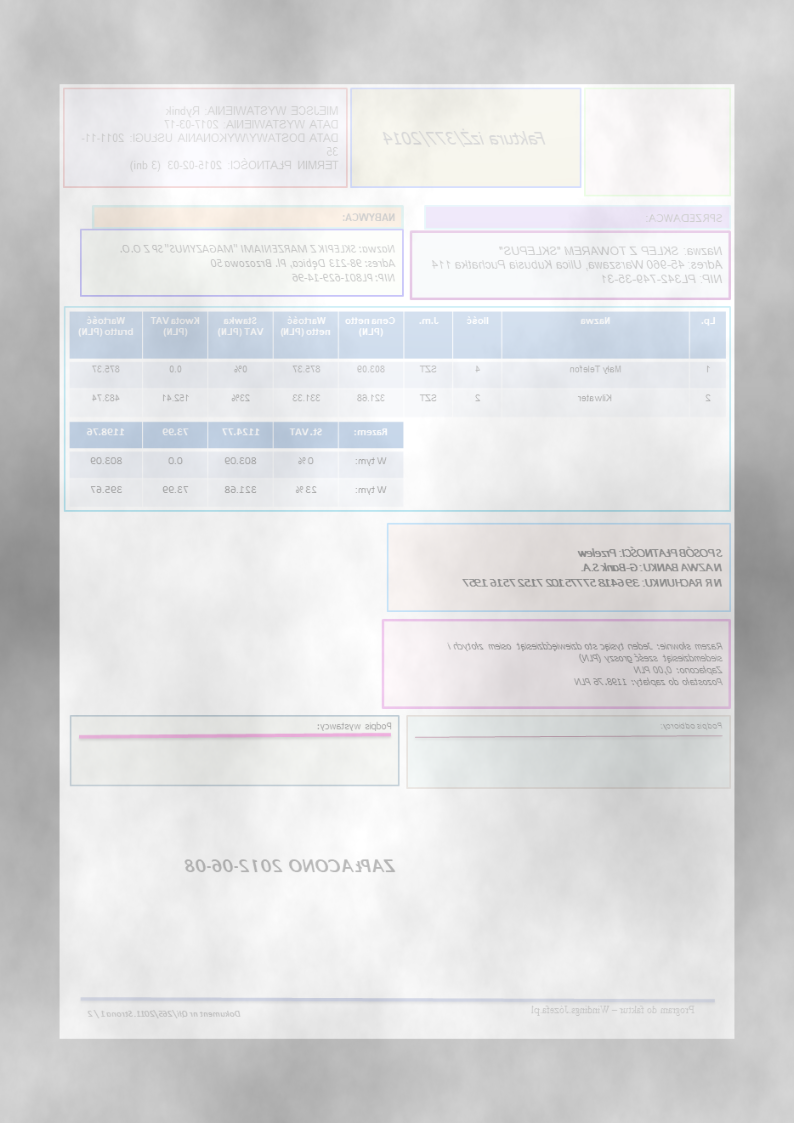Table: (68, 309, 728, 419), (67, 419, 406, 508)
TextBox: (78, 101, 341, 175), (442, 638, 724, 689), (430, 242, 725, 288), (461, 543, 725, 593), (117, 240, 398, 286), (184, 854, 397, 876), (379, 127, 550, 150), (530, 1000, 697, 1018), (85, 1005, 243, 1021), (315, 718, 395, 734), (644, 209, 727, 224), (660, 717, 725, 733), (342, 207, 399, 225)
